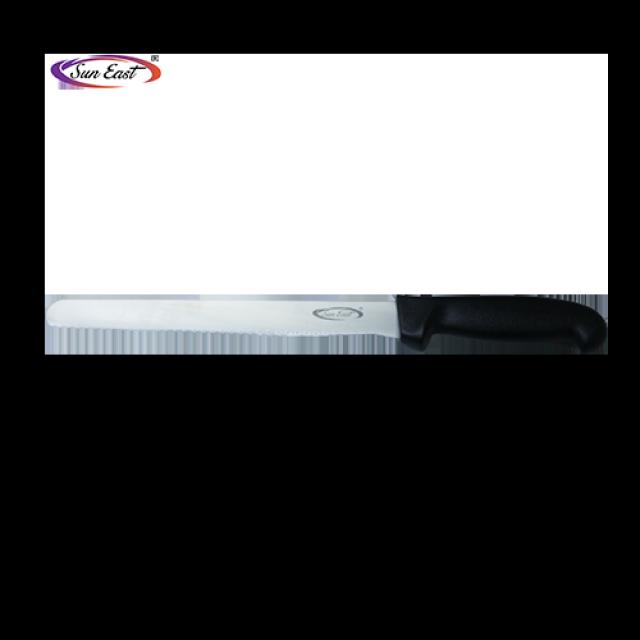Knife: (47, 296, 607, 352)
